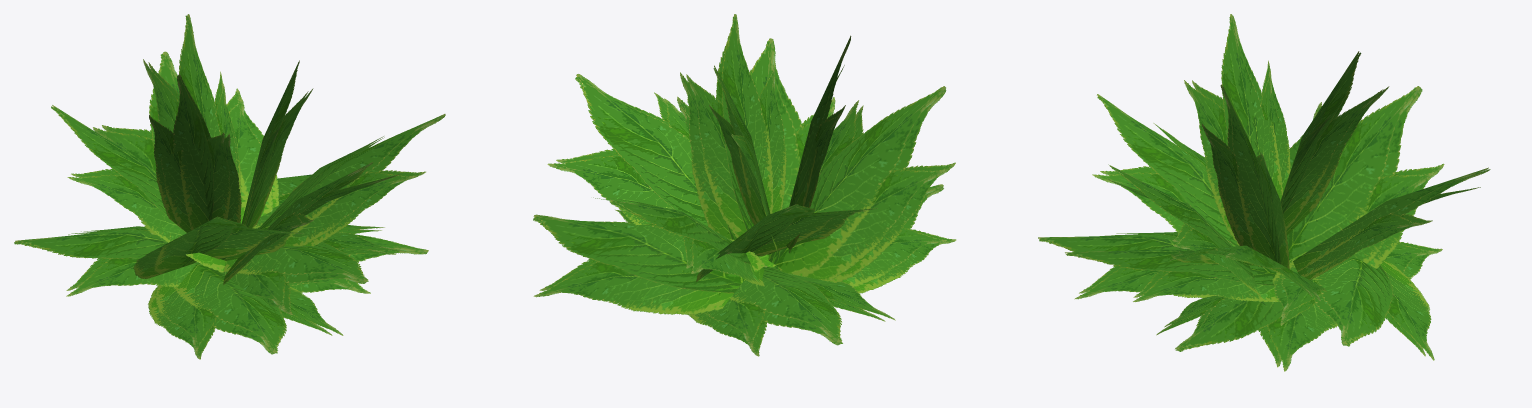
The model's file is arbusto cartoon 3.FBX.
3 views of the same model, side by side, from view 1: azimuth 30°, elevation 25°; view 2: azimuth 150°, elevation 25°; view 3: azimuth 270°, elevation 25° (orthographic). The views are drawn at different scales.
Parts seen in each view (by area): view 1: MANOLETE BUSH; view 2: MANOLETE BUSH; view 3: MANOLETE BUSH.
Part boxes in pixels (x1,y1,x2,y2): MANOLETE BUSH: (14,14,445,359); MANOLETE BUSH: (533,14,956,356); MANOLETE BUSH: (1038,14,1490,371).
Bounding box in the file's own units: 2.52 × 1.55 × 2.61.
